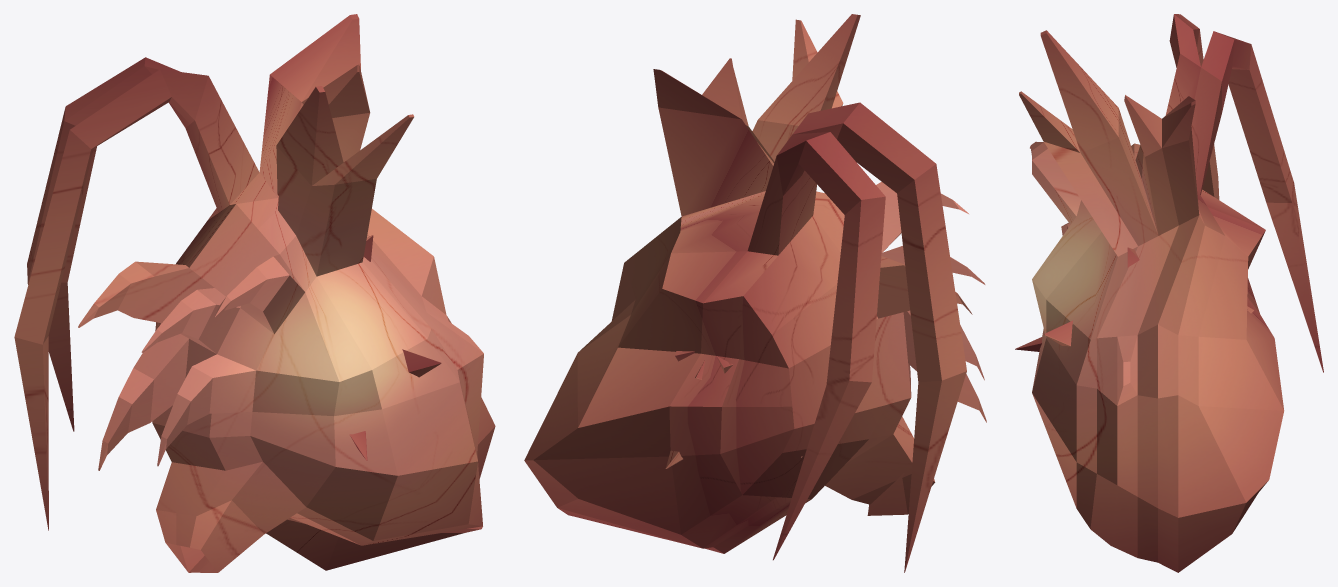
File: heart.obj
3 views of the same model, side by side, from view 1: azimuth 30°, elevation 25°; view 2: azimuth 150°, elevation 25°; view 3: azimuth 270°, elevation 25° (orthographic). The views are drawn at different scales.
Parts seen in each view (by area): view 1: pCube1, pSphere1; view 2: pCube1; view 3: pCube1, pSphere1.
Part boxes in pixels (x1=…): pCube1: x1=14, y1=14, x2=495, y2=572; pSphere1: x1=349, y1=235, x2=441, y2=460; pCube1: x1=524, y1=14, x2=986, y2=572; pCube1: x1=1019, y1=14, x2=1323, y2=572; pSphere1: x1=1015, y1=247, x2=1253, y2=351.
Size of the model in its own units: 89.63 by 101 by 61.56.
